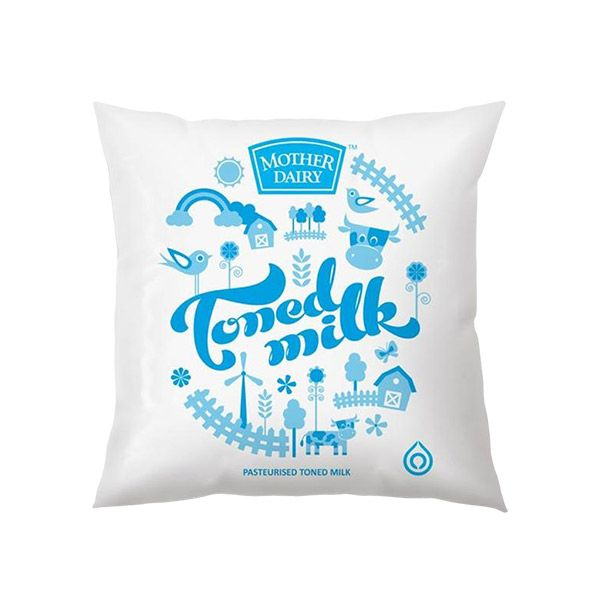Mother_Dairy: (240, 134, 348, 200)
